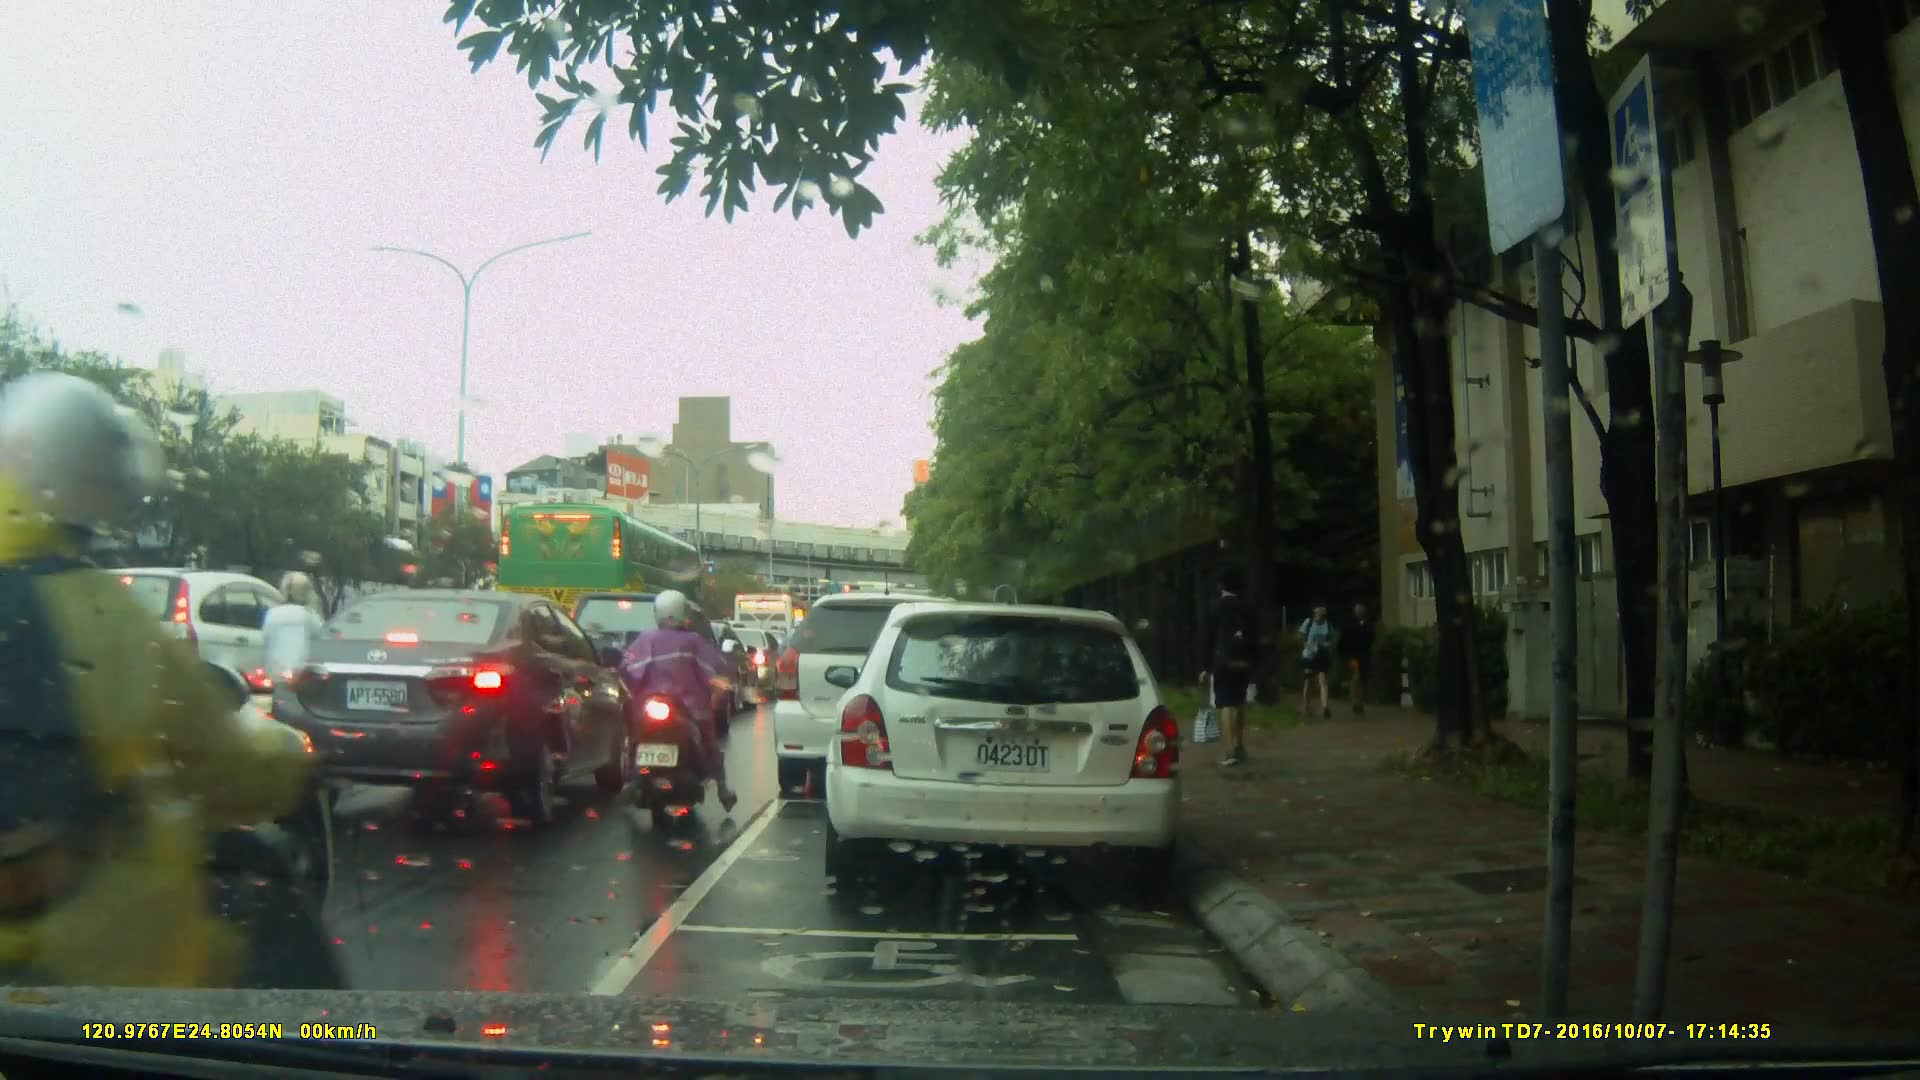pedestrian: (1196, 569, 1270, 770), (1298, 592, 1353, 721), (1335, 596, 1375, 714)
rider: (1, 375, 318, 1080), (630, 586, 734, 827), (773, 612, 811, 703)
vehicle: (1, 521, 336, 986), (831, 592, 1196, 897), (258, 586, 635, 829), (24, 563, 332, 761), (770, 592, 999, 799), (495, 502, 707, 644), (550, 588, 729, 741)
